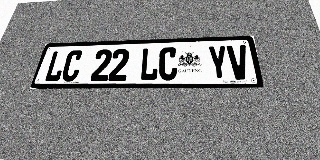2: (90, 49, 113, 81), (108, 48, 130, 81)
C: (60, 50, 84, 82), (158, 47, 177, 80)
L: (43, 51, 68, 82), (139, 48, 159, 81)
V: (226, 45, 251, 80)
Y: (207, 45, 230, 80)
